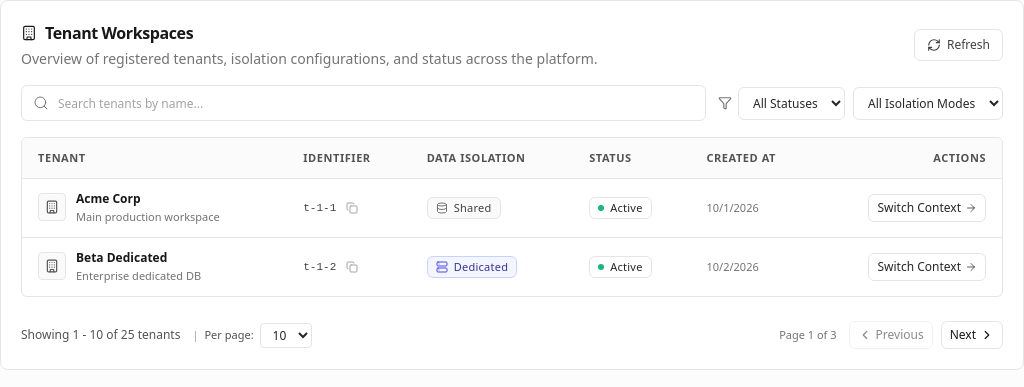
Test: Tenant Module › TenantListTable › handles pagination next and previous controls correctly
Expected: the text "Acme Corp" is shown, [76,191,141,207]
Expected: the text "Showing 1 - 10 of 25 tenants" is shown, [21,327,180,343]
Click the button "Next" at (972, 335), box [941,321,1003,349]
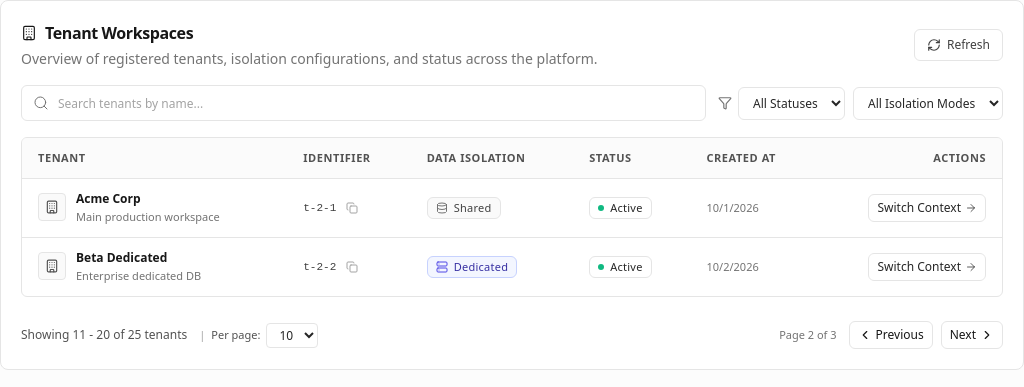
Expected: the text "Page 2 of 3" is shown, [779,327,836,343]
Expected: the text "Showing 11 - 20 of 25 tenants" is shown, [21,327,187,343]
Expected: the button "Previous" is enabled
Click the button "Previous" at (891, 335), box [848,321,933,349]
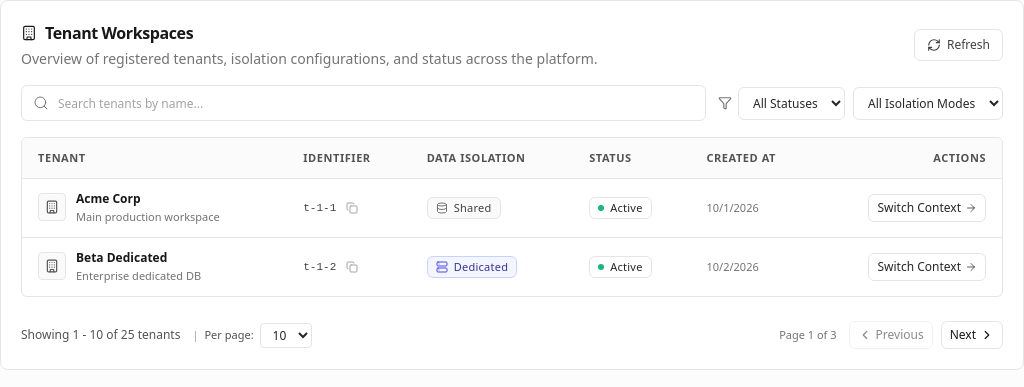
Expected: the button "Next" is enabled, [941,321,1003,349]
Expected: the text "Page 1 of 3" is shown, [779,327,836,343]
Expected: the button "Previous" is disabled, [848,321,933,349]
